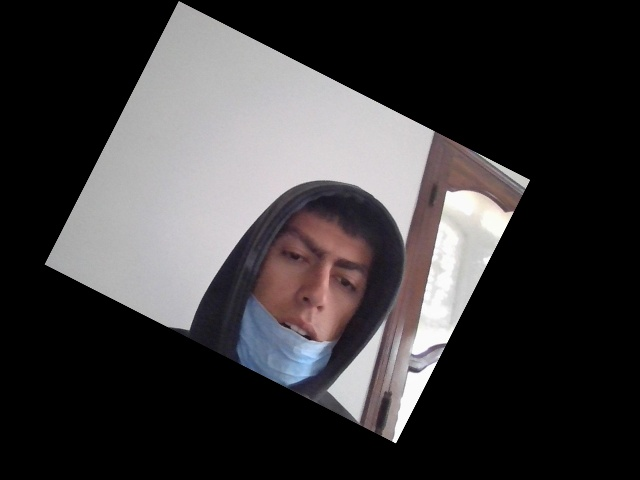mask_weared_incorrect: (238, 199, 378, 399)
